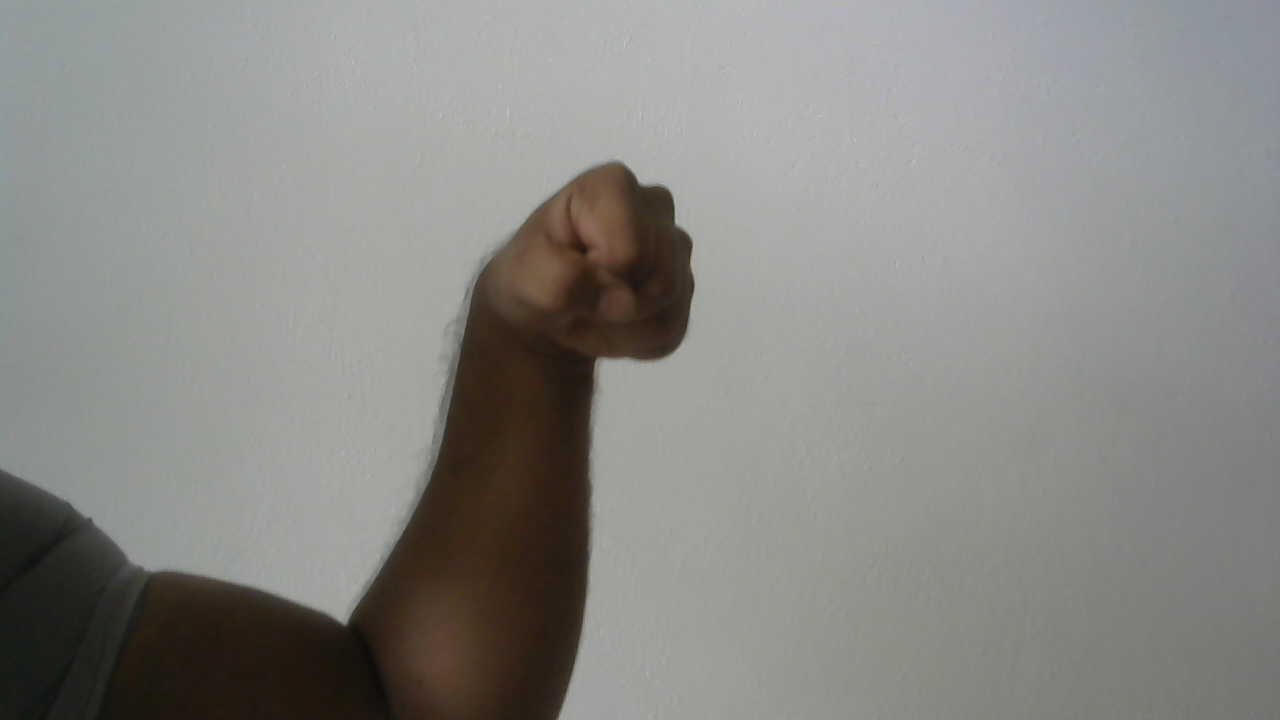yes: (432, 145, 731, 398)
